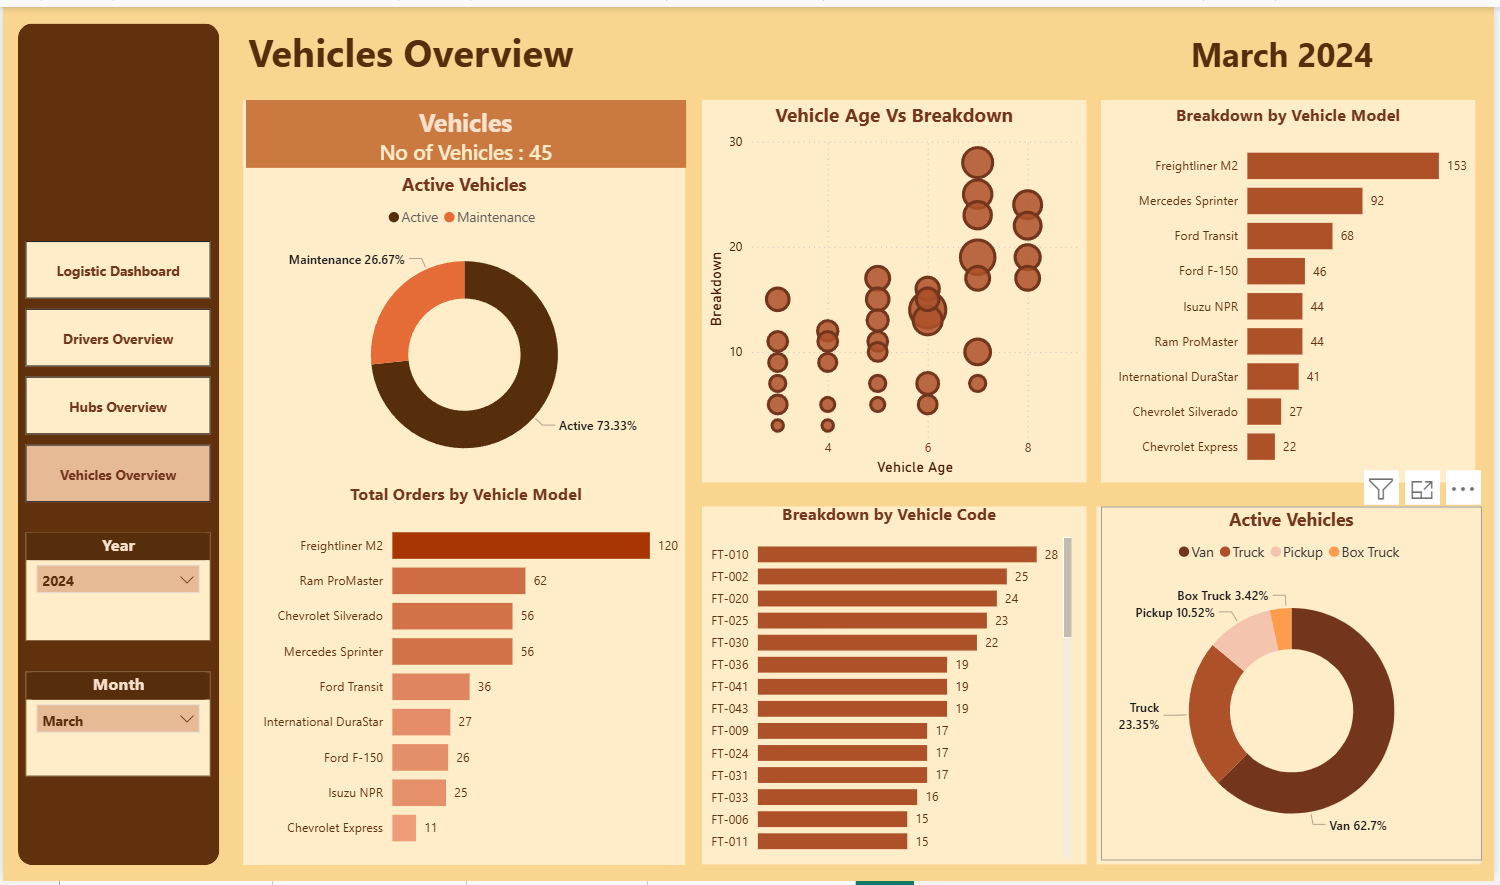

This screenshot's page, from the dashboard's own definition file:
{"tool":"powerbi","page":{"name":"Vehicles Overview ","canvas":[1450,850],"ordinal":3},"visuals":[{"type":"shape","title":"Navigation bar ","box":[14.3,15.7,195.7,818.6],"z":0},{"type":"textbox","title":"Title","box":[234,13.8,383.1,64.2],"z":1000},{"type":"slicer","title":"Year","fields":{"Values":["Date Table.Year"]},"box":[22,510,180,106],"z":2000},{"type":"slicer","title":"Month","fields":{"Values":["Date Table.Month"]},"box":[22,646,180,102],"z":3000},{"type":"card","fields":{"Values":["Orders.Year Month Title"]},"box":[1093.1,14.4,301.6,63.8],"z":4000},{"type":"shape","box":[680,90,374,372],"z":5000},{"type":"shape","box":[234,90,430,744],"z":6000},{"type":"shape","box":[236,90,428,66],"z":7000},{"type":"textbox","box":[378,90,144,54],"z":8000},{"type":"card","fields":{"Values":["Vehicles.No of Vehicles"]},"box":[340,124,220,36],"z":9000},{"type":"donutChart","title":"Active Vehicles ","fields":{"Y":["CountNonNull(Vehicles.Vehicle ID)"],"Category":["Vehicles.Vehicle Status"]},"box":[234,160,430,302],"z":10000},{"type":"clusteredBarChart","fields":{"Category":["Vehicles.Vehicle Model"],"Y":["Orders.Total Orders"]},"box":[236,462,428,368],"z":11000},{"type":"shape","box":[1068,90,364,372],"z":12000},{"type":"scatterChart","title":"Vehicle Age Vs Breakdown","fields":{"X":["Vehicles.Vehicle Age"],"Y":["Vehicles.Breakdown"],"Size":["Sum(Vehicles.Breakdown)1"]},"box":[680,92,374,368],"z":13000},{"type":"shape","box":[680,486,374,348],"z":14000},{"type":"barChart","title":"Breakdown by Vehicle Code","fields":{"Category":["Vehicles.Vehicle Code"],"Y":["Sum(Vehicles.Breakdown)"]},"box":[680,482,364,352],"z":15000},{"type":"barChart","title":"Breakdown by Vehicle Model","fields":{"Y":["Sum(Vehicles.Breakdown)"],"Category":["Vehicles.Vehicle Model"]},"box":[1068,94,364,366],"z":16000},{"type":"shape","box":[1064,486,374,348],"z":17000},{"type":"donutChart","title":"Active Vehicles ","fields":{"Y":["Orders.Total Orders"],"Category":["Orders.Vehicle Type"]},"box":[1068,486,370,344],"z":18000},{"type":"pageNavigator","box":[22,228,180,254],"z":19000}]}

Visuals, with their boxes in screenshot pixels (x1, y1, x2, y2), scaled from the page's 1450x850 canvas onto the 1500x885 screenshot:
"Navigation bar " shape: [15, 16, 217, 869]
"Title" textbox: [242, 14, 638, 81]
"Year" slicer: [23, 531, 209, 641]
"Month" slicer: [23, 673, 209, 779]
card - Orders.Year Month Title: [1131, 15, 1443, 81]
shape: [703, 94, 1090, 481]
shape: [242, 94, 687, 868]
shape: [244, 94, 687, 162]
textbox: [391, 94, 540, 150]
card - Vehicles.No of Vehicles: [352, 129, 579, 167]
"Active Vehicles " donutChart: [242, 167, 687, 481]
clusteredBarChart - Vehicles.Vehicle Model x Orders.Total Orders: [244, 481, 687, 864]
shape: [1105, 94, 1481, 481]
"Vehicle Age Vs Breakdown" scatterChart: [703, 96, 1090, 479]
shape: [703, 506, 1090, 868]
"Breakdown by Vehicle Code" barChart: [703, 502, 1080, 868]
"Breakdown by Vehicle Model" barChart: [1105, 98, 1481, 479]
shape: [1101, 506, 1488, 868]
"Active Vehicles " donutChart: [1105, 506, 1488, 864]
pageNavigator: [23, 237, 209, 502]
